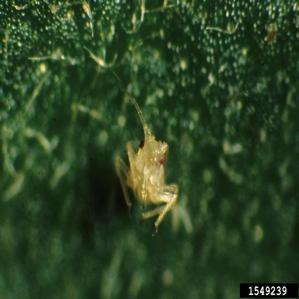Green peach aphid: (87, 59, 219, 264)
